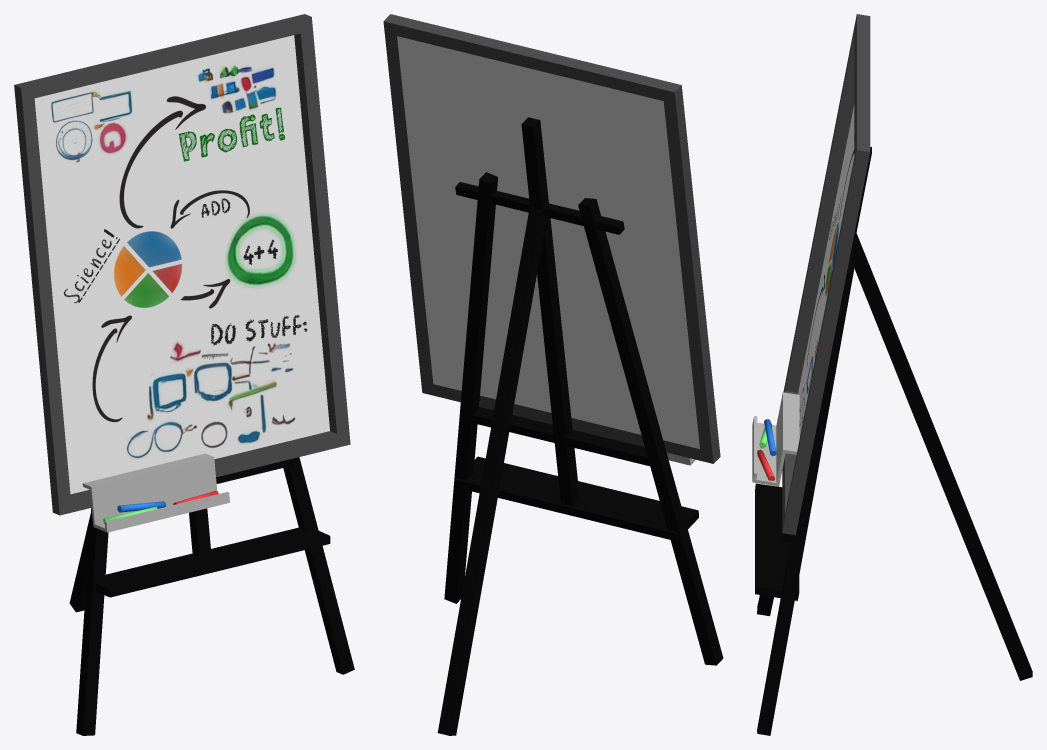
The picture shows the model from 3 angles, left to right: view 1: azimuth 30°, elevation 25°; view 2: azimuth 150°, elevation 25°; view 3: azimuth 270°, elevation 25°; orthographic projection. The views are drawn at different scales.
Parts seen in each view (by area): view 1: Picture_Easel.001; view 2: Picture_Easel.001; view 3: Picture_Easel.001.
Boxes of the visible parts, bbox=[...] form: Picture_Easel.001: bbox=[14, 14, 354, 735]; Picture_Easel.001: bbox=[383, 14, 723, 735]; Picture_Easel.001: bbox=[752, 14, 1032, 735].
Size of the model in its own units: 0.7252 by 1.48 by 0.6309.
2 materials, 2 textured.
